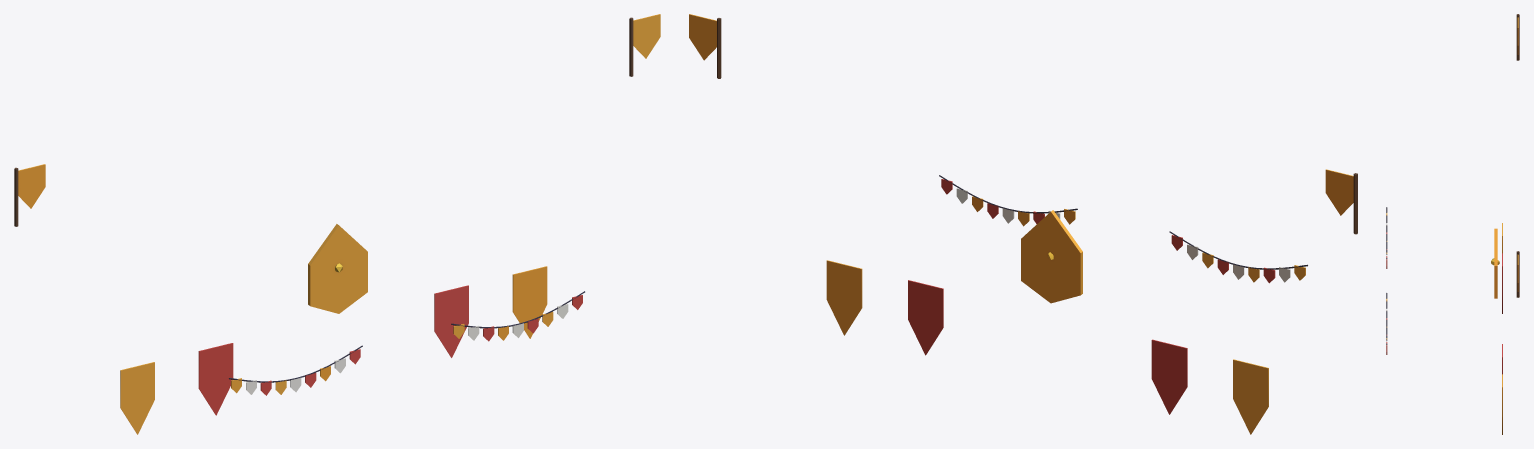
The model's file is area_guard_5_5.fbx.
3 renders of one model, left to right at view 1: azimuth 30°, elevation 25°; view 2: azimuth 150°, elevation 25°; view 3: azimuth 270°, elevation 25°, orthographic. The views are drawn at different scales.
Visible parts, largest first — view 1: area_guard_5_5_body; view 2: area_guard_5_5_body; view 3: area_guard_5_5_body.
Boxes of the visible parts, <box> form: area_guard_5_5_body: <box>14,14,660,434</box>; area_guard_5_5_body: <box>689,14,1357,434</box>; area_guard_5_5_body: <box>1386,14,1519,434</box>.
Bounding box in the file's own units: 12333 × 5225 × 2798.
Materials: 1 (1 with a texture image).
